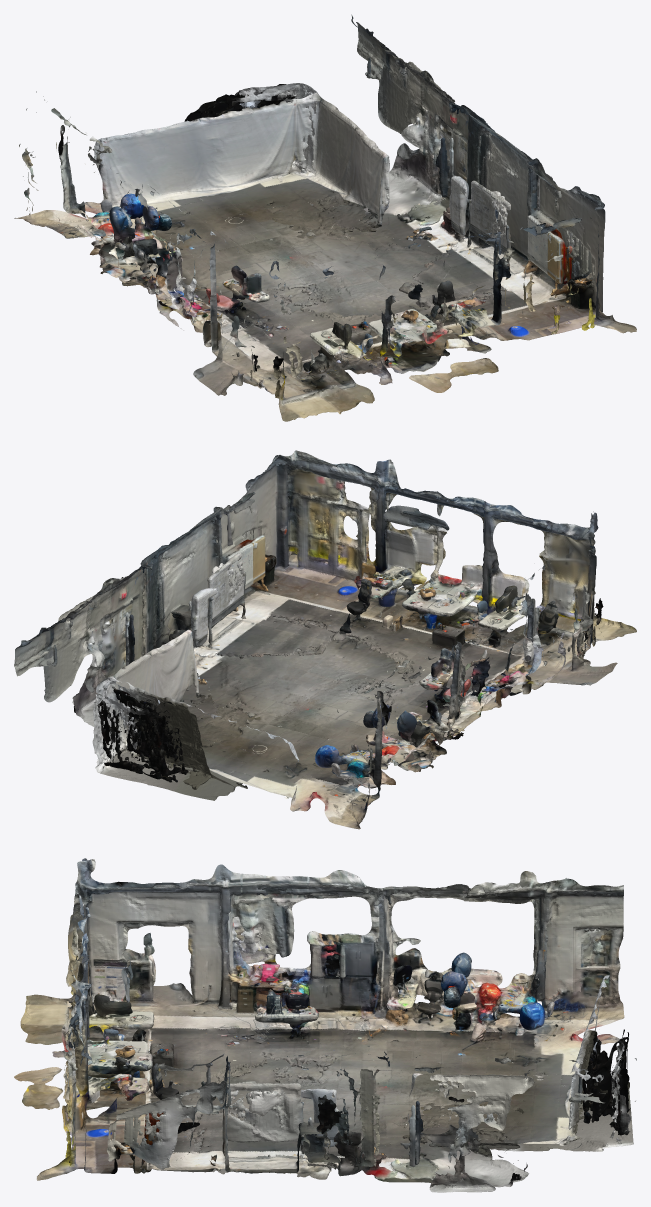
3 views of the same model, one above another, from view 1: azimuth 30°, elevation 25°; view 2: azimuth 150°, elevation 25°; view 3: azimuth 270°, elevation 25° (orthographic). The views are drawn at different scales.
Size of the model in its own units: 11.65 by 4.23 by 15.18.
3 materials, 3 textured.
